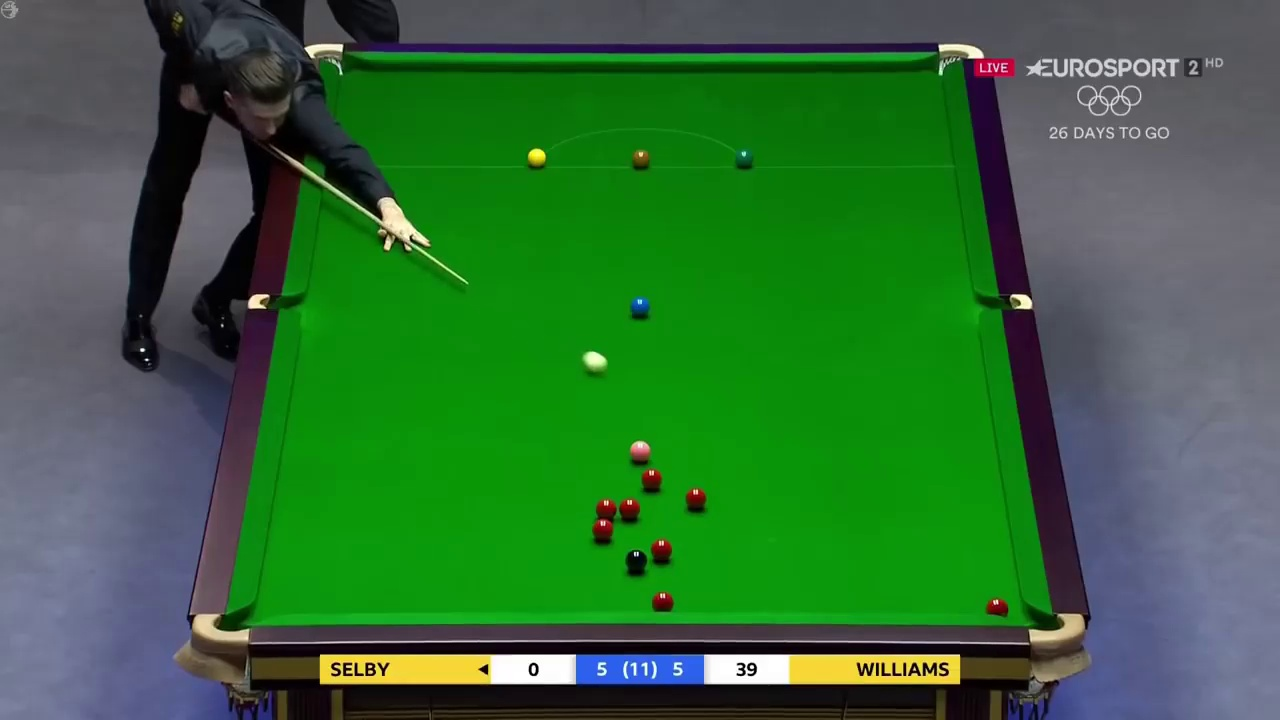ball: (648, 537, 671, 563), (619, 495, 642, 519), (522, 146, 546, 168), (628, 437, 650, 461), (686, 488, 708, 512), (730, 148, 755, 169), (624, 549, 646, 571), (591, 518, 611, 541), (628, 146, 649, 167), (628, 294, 648, 316), (640, 469, 660, 490)
